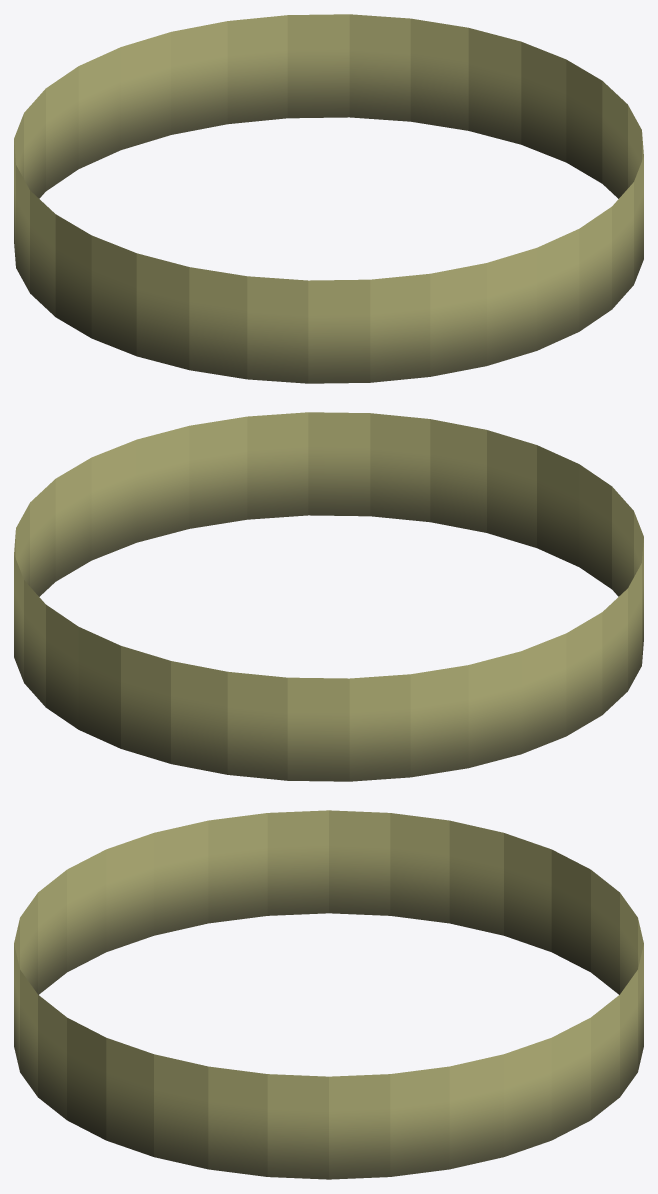
The model's file is Walls02.glb.
3 renders of one model, top to bottom at view 1: azimuth 30°, elevation 25°; view 2: azimuth 150°, elevation 25°; view 3: azimuth 270°, elevation 25°, orthographic.
Visible parts, largest first — view 1: Walls02; view 2: Walls02; view 3: Walls02.
Part boxes in pixels (x1=…): Walls02: x1=14, y1=14, x2=643, y2=383; Walls02: x1=14, y1=412, x2=643, y2=781; Walls02: x1=14, y1=810, x2=643, y2=1179.
Size of what is drawn, in the model's own units: 60 by 10.82 by 60.
Materials: 1 (1 with a texture image).
